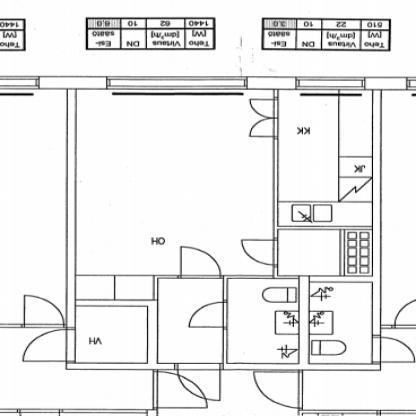bathroom: (310, 277, 381, 368), (229, 281, 302, 364)
door: (145, 369, 210, 410), (245, 367, 306, 410), (173, 359, 230, 402), (16, 329, 78, 366), (244, 94, 284, 145), (16, 293, 68, 330), (177, 244, 224, 282), (237, 233, 282, 271), (184, 299, 233, 330), (368, 335, 414, 368)
perimeter: (67, 78, 383, 372)
window: (97, 73, 250, 96), (288, 72, 373, 96)
